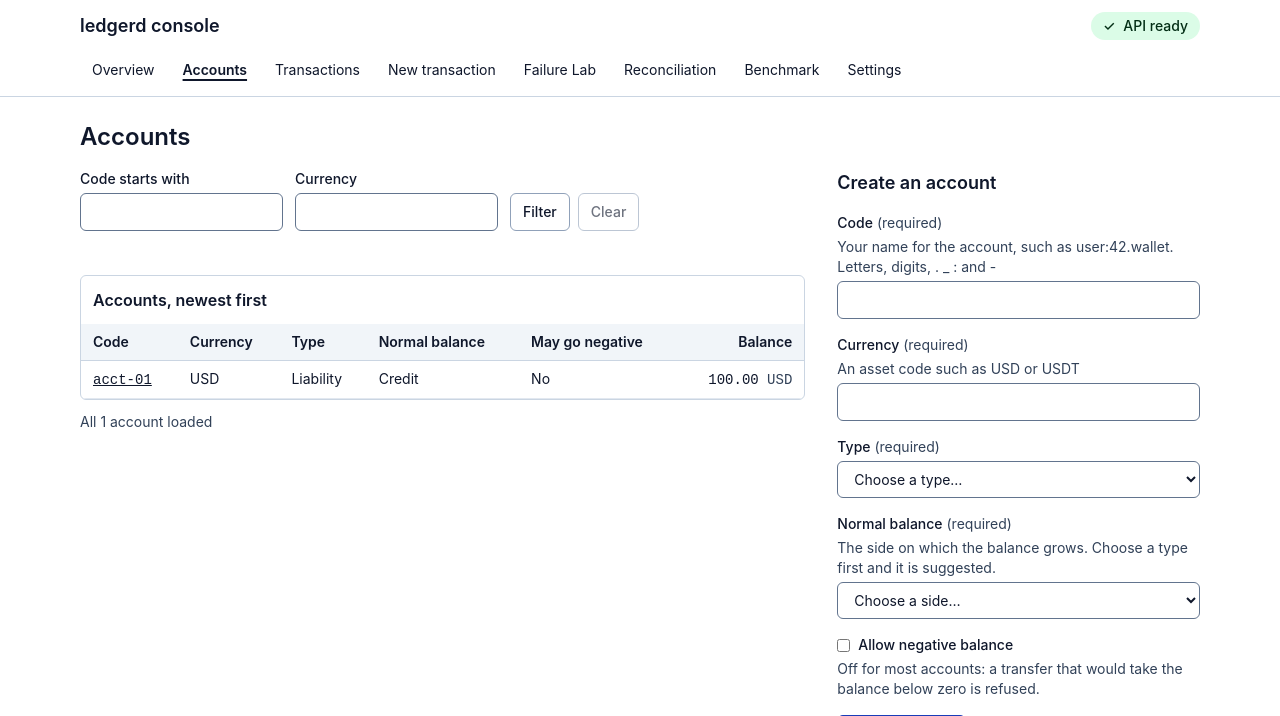
Test: the account form › suggests LIABILITY -> CREDIT, and says so
Expected: the heading "Accounts" is shown, [80,121,190,153]
Select "Liability" in the dropdown labelled "Type (required)": x=1019, y=480 [837,461,1200,498]
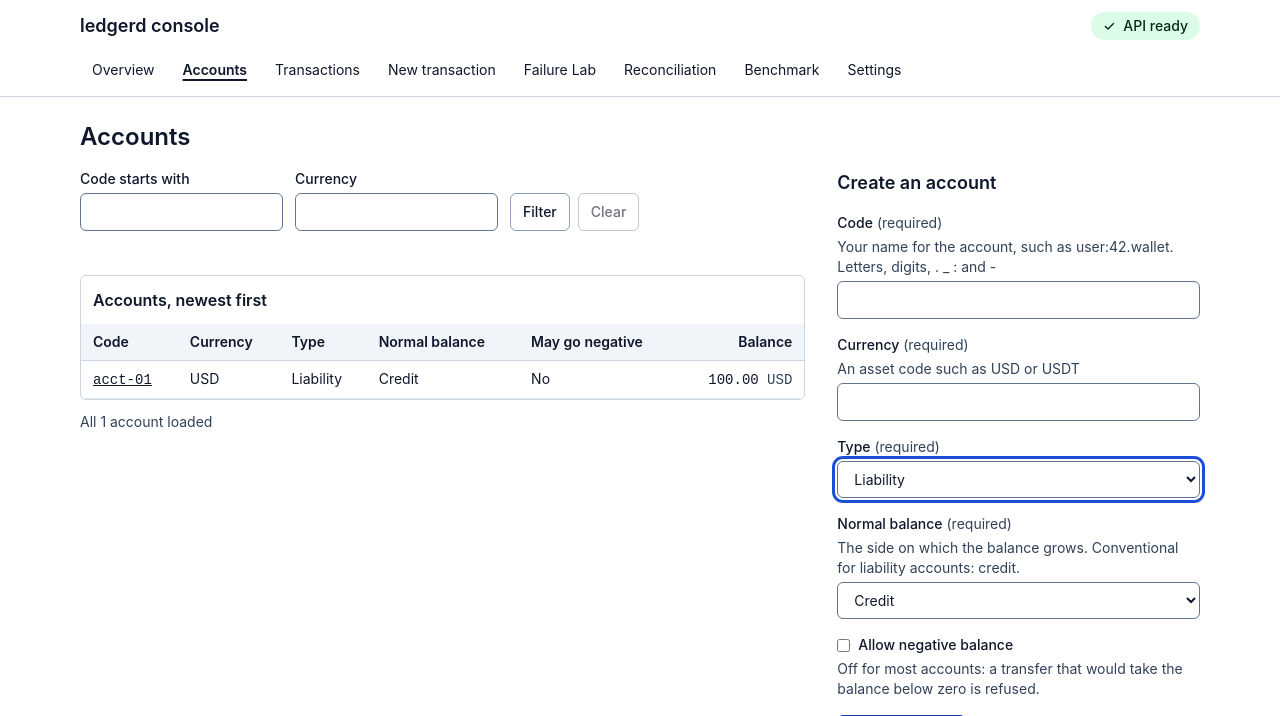
Expected: the dropdown labelled "Normal balance (required)" shows "Credit", [837,582,1200,619]
